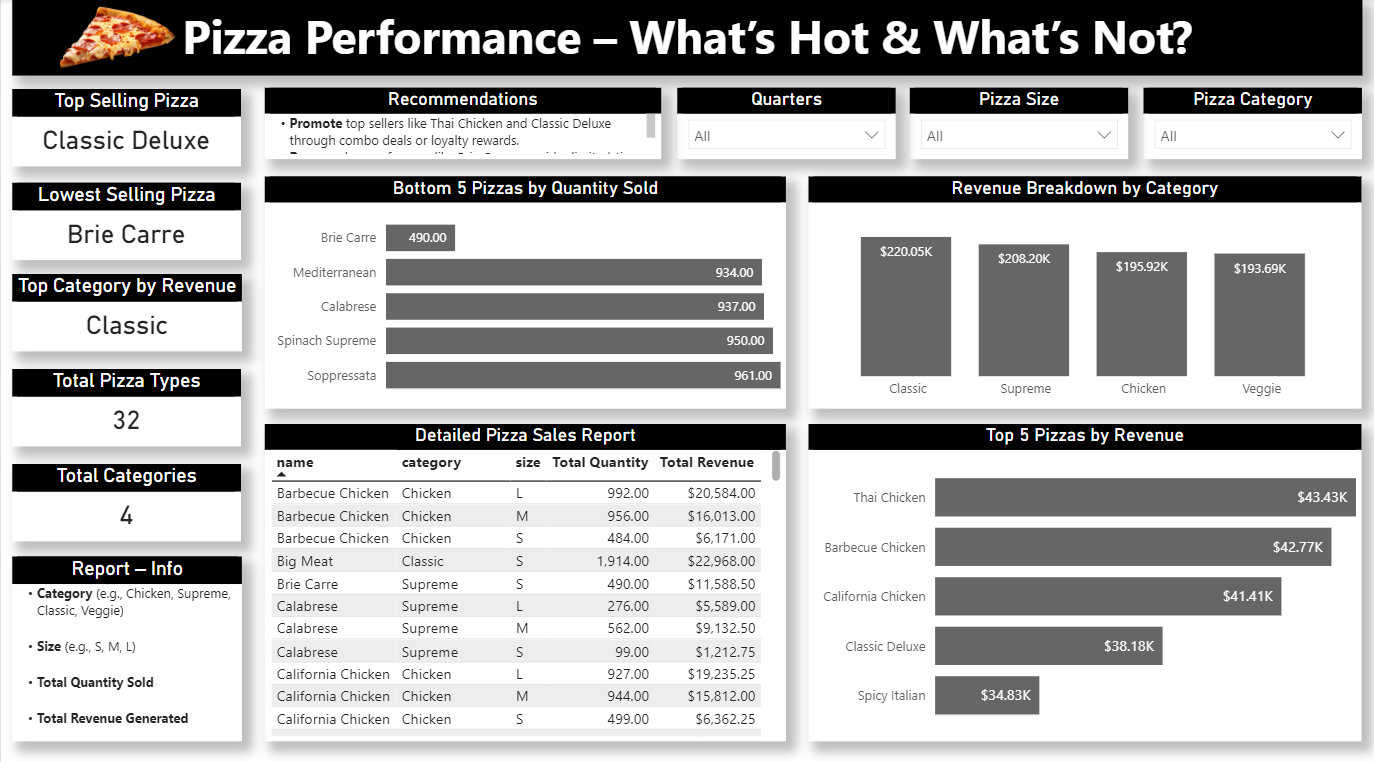

Layout of this report page (visuals, bound fields, positions):
{"tool":"powerbi","page":{"name":"Page 3","canvas":[1280,720],"ordinal":2},"visuals":[{"type":"textbox","box":[10.5,0,1255.8,70.9],"z":0},{"type":"card","title":"Top Selling Pizza","fields":{"Values":["Min(pizza.pizza_name)"]},"box":[10.2,83.4,212.6,72.4],"z":1000},{"type":"card","title":"Lowest Selling Pizza","fields":{"Values":["Min(pizza.pizza_name)"]},"box":[10.2,170.5,212.6,72.4],"z":2000},{"type":"card","title":"Top Category by Revenue","fields":{"Values":["Min(pizza.pizza_category)"]},"box":[10.2,255.3,213.7,72.4],"z":3000},{"type":"card","title":"Total Pizza Types","fields":{"Values":["Count(pizza.pizza_name)"]},"box":[10.2,344.6,212.6,72.4],"z":4000},{"type":"card","title":"Total Categories","fields":{"Values":["Count(pizza.pizza_category)"]},"box":[10.2,432.8,212.6,72.4],"z":5000},{"type":"clusteredBarChart","title":"Top 5 Pizzas by Revenue","fields":{"Y":["Sum(pizza.total_price)"],"Category":["pizza.pizza_name"]},"box":[750.8,395.7,514.4,295.1],"z":6000},{"type":"clusteredBarChart","title":"Bottom 5 Pizzas by Quantity Sold","fields":{"Category":["pizza.pizza_name"],"Y":["pizza.Total Quantity"]},"box":[245.4,165.1,485.1,216],"z":7000},{"type":"columnChart","title":"Revenue Breakdown by Category","fields":{"Category":["pizza.pizza_category"],"Y":["Sum(pizza.total_price)"]},"box":[750.8,165.1,514.4,216],"z":8000},{"type":"slicer","title":"Pizza Category","fields":{"Values":["pizza.pizza_category"]},"box":[1063.2,82.2,203.6,66.2],"z":9000},{"type":"slicer","title":"Pizza Size","fields":{"Values":["pizza.pizza_size"]},"box":[844.9,82.2,203.6,66.2],"z":10000},{"type":"tableEx","title":"Detailed Pizza Sales Report","fields":{"Values":["pizza.pizza_name","pizza.pizza_category","pizza.pizza_size","pizza.Total Quantity","pizza.Total Revenue"]},"box":[245.4,395.7,485.1,295.1],"z":11000},{"type":"slicer","title":"Quarters","fields":{"Values":["pizza.Quarter_Name"]},"box":[629.1,82.6,203.5,66.3],"z":12000},{"type":"image","box":[0,0,217.1,71.2],"z":13000},{"type":"textbox","title":"Report – Info","box":[10.5,518.6,214,172.1],"z":14000},{"type":"textbox","title":"Recommendations","box":[245.4,82.5,368.6,66.7],"z":15000}]}

Visuals, with their boxes in screenshot pixels (x1, y1, x2, y2), scaled from the page's 1280x720 canvas onto the 1374x762 screenshot:
textbox: 11,0,1359,75
"Top Selling Pizza" card: 11,88,239,165
"Lowest Selling Pizza" card: 11,180,239,257
"Top Category by Revenue" card: 11,270,240,347
"Total Pizza Types" card: 11,365,239,441
"Total Categories" card: 11,458,239,535
"Top 5 Pizzas by Revenue" clusteredBarChart: 806,419,1358,731
"Bottom 5 Pizzas by Quantity Sold" clusteredBarChart: 263,175,784,403
"Revenue Breakdown by Category" columnChart: 806,175,1358,403
"Pizza Category" slicer: 1141,87,1360,157
"Pizza Size" slicer: 907,87,1125,157
"Detailed Pizza Sales Report" tableEx: 263,419,784,731
"Quarters" slicer: 675,87,894,158
image: 0,0,233,75
"Report – Info" textbox: 11,549,241,731
"Recommendations" textbox: 263,87,659,158
